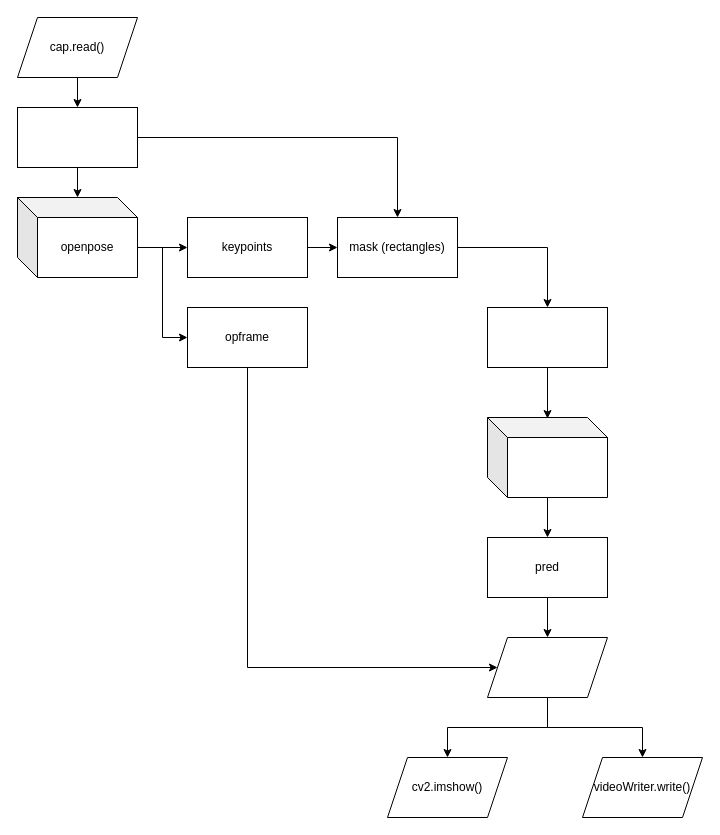
This 720x835 diagram has some shape labels left out. Each missing label, with the centre of its shape:
"annotator.result()" goes at point 547,667.
"frame" goes at point 77,137.
"masked frame" goes at point 547,337.
"yolov5s" goes at point 547,457.
